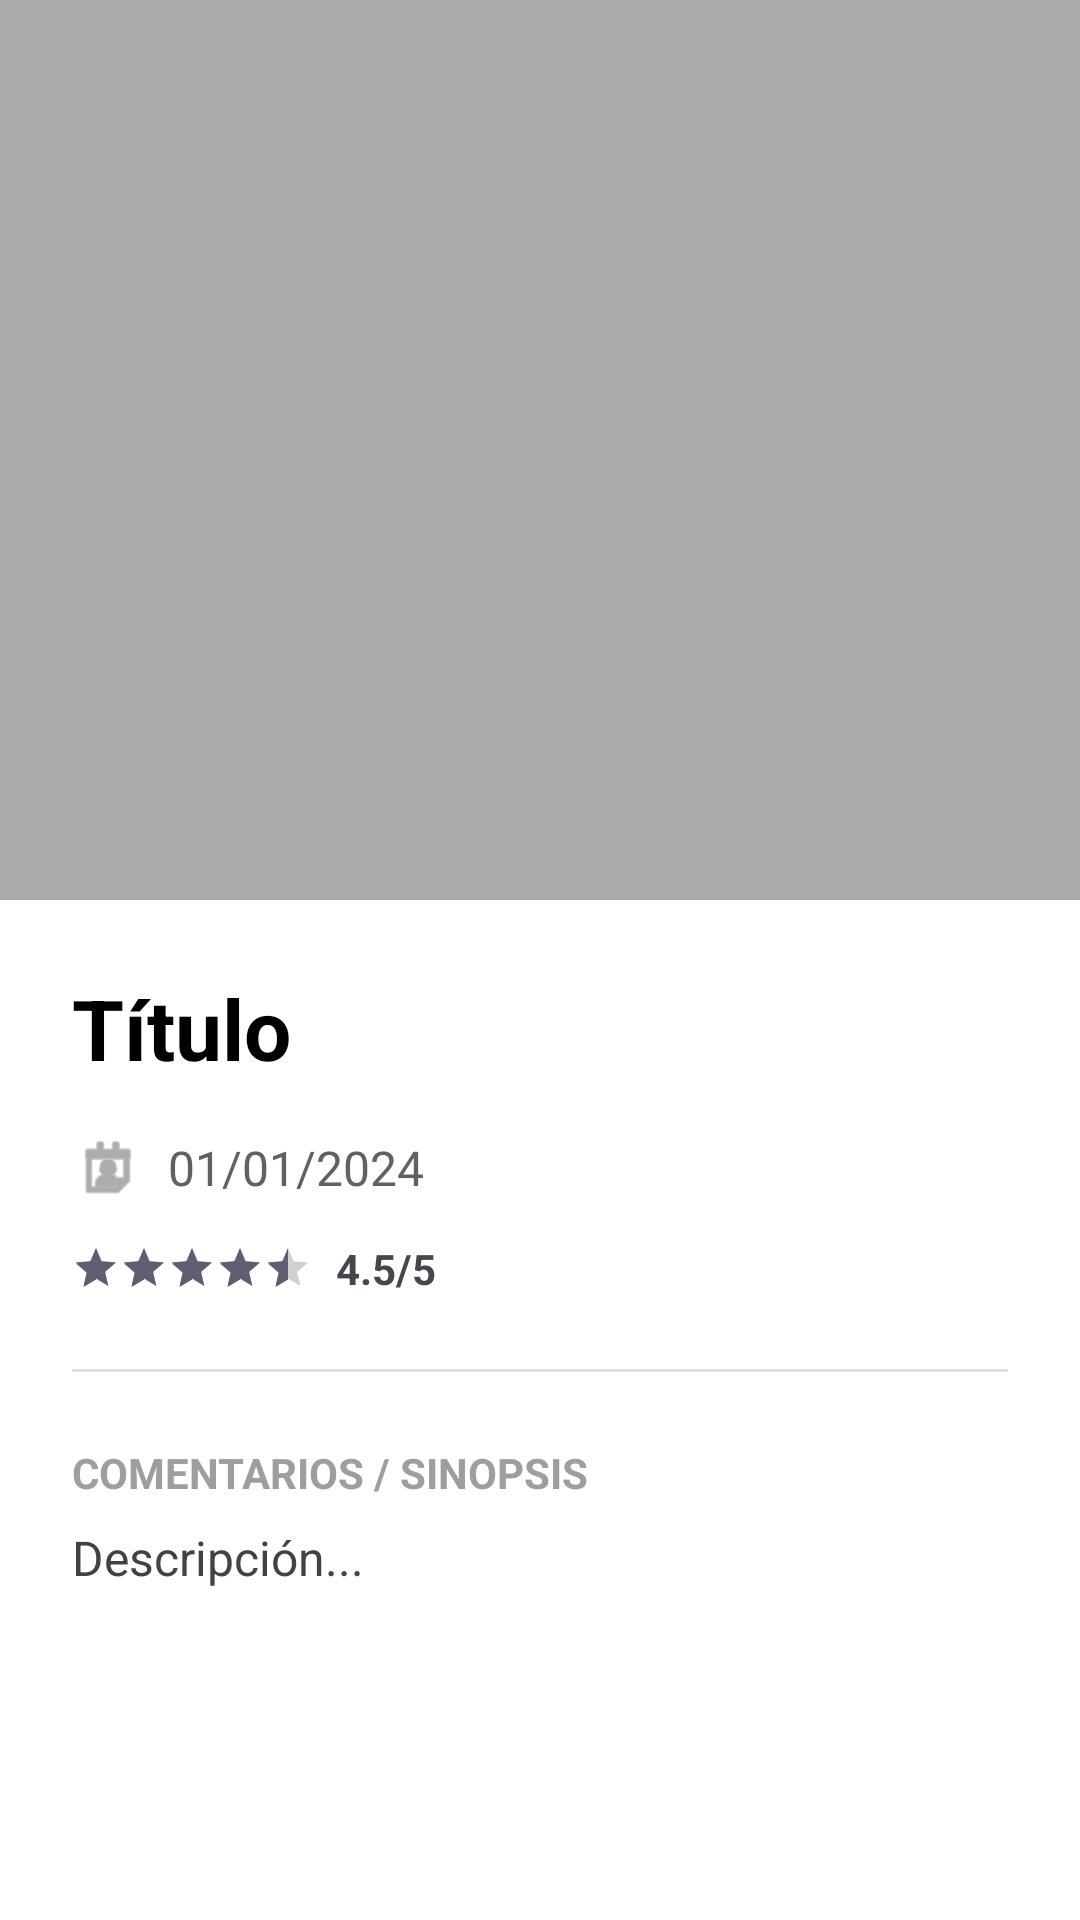

Point at icon controls on the screen. Image size 1080w x 1920h, points as (x,y).
calendar: (108,1167)
